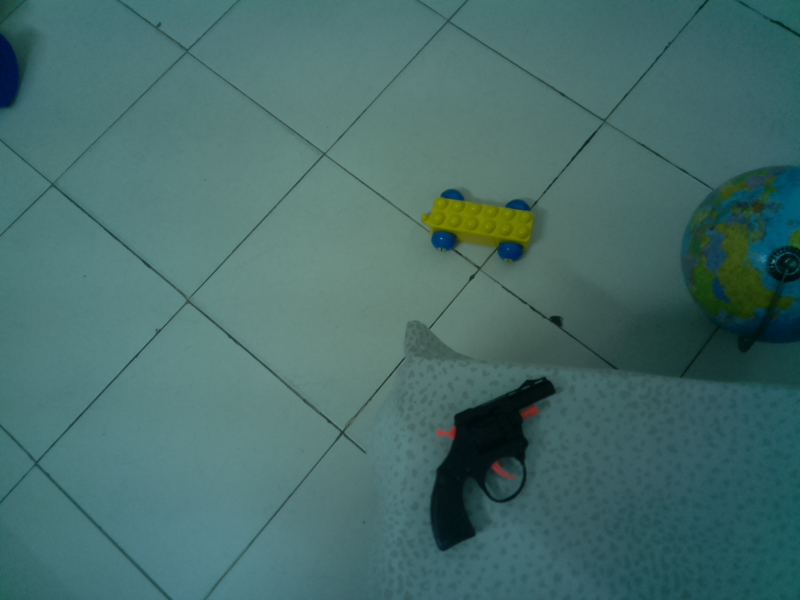Gun: (426, 374, 558, 554)
toy_Car: (419, 188, 540, 266)
